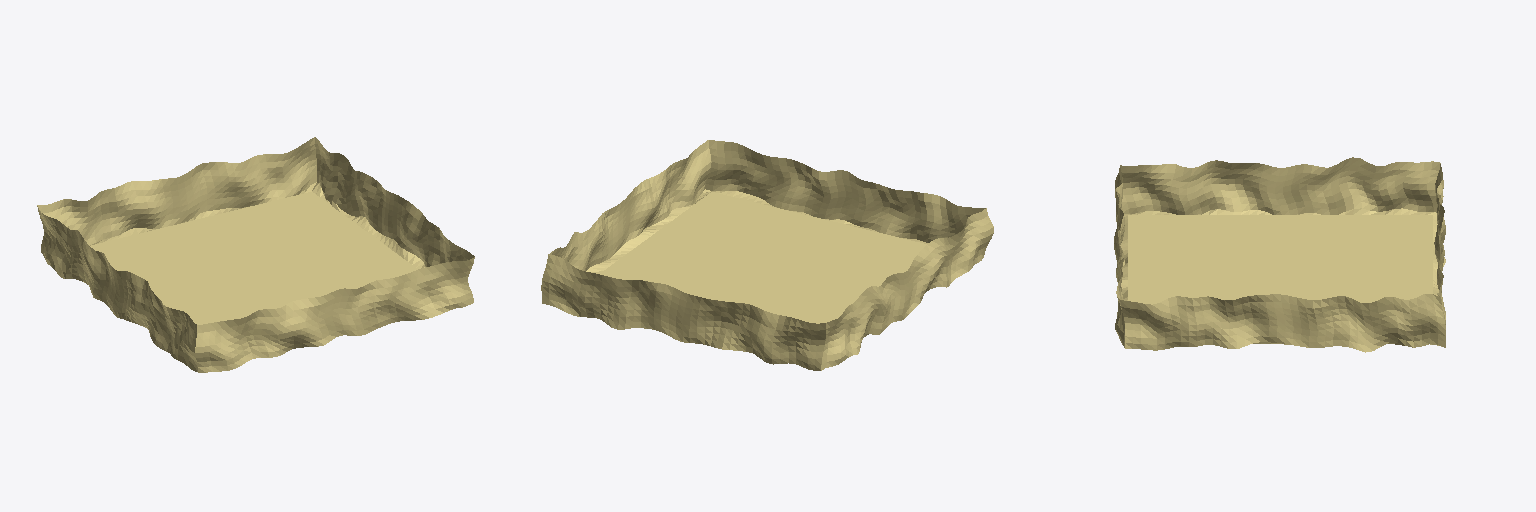
Rendered from tobmat.obj.
3 renders of one model, left to right at view 1: azimuth 30°, elevation 25°; view 2: azimuth 150°, elevation 25°; view 3: azimuth 270°, elevation 25°, orthographic.
Parts seen in each view (by area): view 1: Plane001; view 2: Plane001; view 3: Plane001.
Part boxes in pixels (x1,y1,x2,y2): Plane001: (37, 137, 474, 372); Plane001: (541, 140, 993, 370); Plane001: (1114, 157, 1445, 352).
Bounding box in the file's own units: 1038 × 210 × 1038.